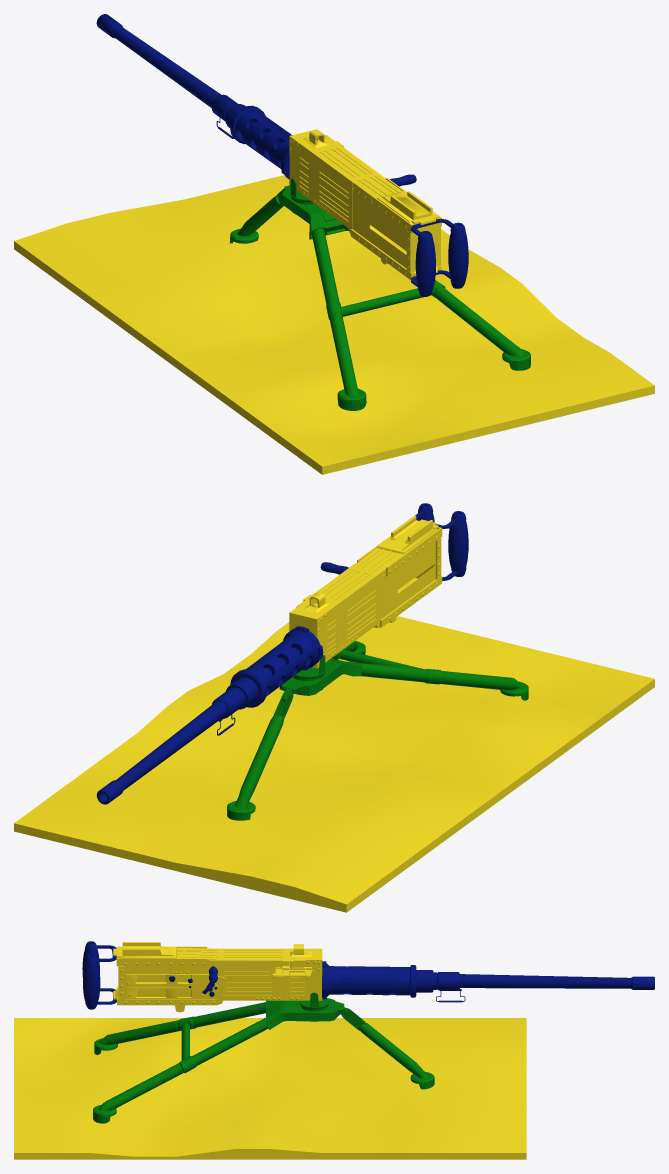
The model's file is GUN.obj.
3 renders of one model, top to bottom at view 1: azimuth 30°, elevation 25°; view 2: azimuth 150°, elevation 25°; view 3: azimuth 270°, elevation 25°, orthographic. The views are drawn at different scales.
Visible parts, largest first — view 1: g_polySurface333_meshId2_name, g_polySurface385_meshId1_name, g_polySurface379_meshId0_name; view 2: g_polySurface333_meshId2_name, g_polySurface385_meshId1_name, g_polySurface379_meshId0_name; view 3: g_polySurface333_meshId2_name, g_polySurface385_meshId1_name, g_polySurface379_meshId0_name.
Part boxes in pixels (<box>): g_polySurface333_meshId2_name: <box>14,129,654,474</box>; g_polySurface385_meshId1_name: <box>96,14,468,296</box>; g_polySurface379_meshId0_name: <box>229,178,530,410</box>; g_polySurface333_meshId2_name: <box>14,516,654,912</box>; g_polySurface385_meshId1_name: <box>96,503,468,804</box>; g_polySurface379_meshId0_name: <box>227,641,528,820</box>; g_polySurface333_meshId2_name: <box>14,942,526,1159</box>; g_polySurface385_meshId1_name: <box>82,941,654,1009</box>; g_polySurface379_meshId0_name: <box>93,992,434,1123</box>.
Bounding box in the file's own units: 0.9963 × 0.5053 × 2.
